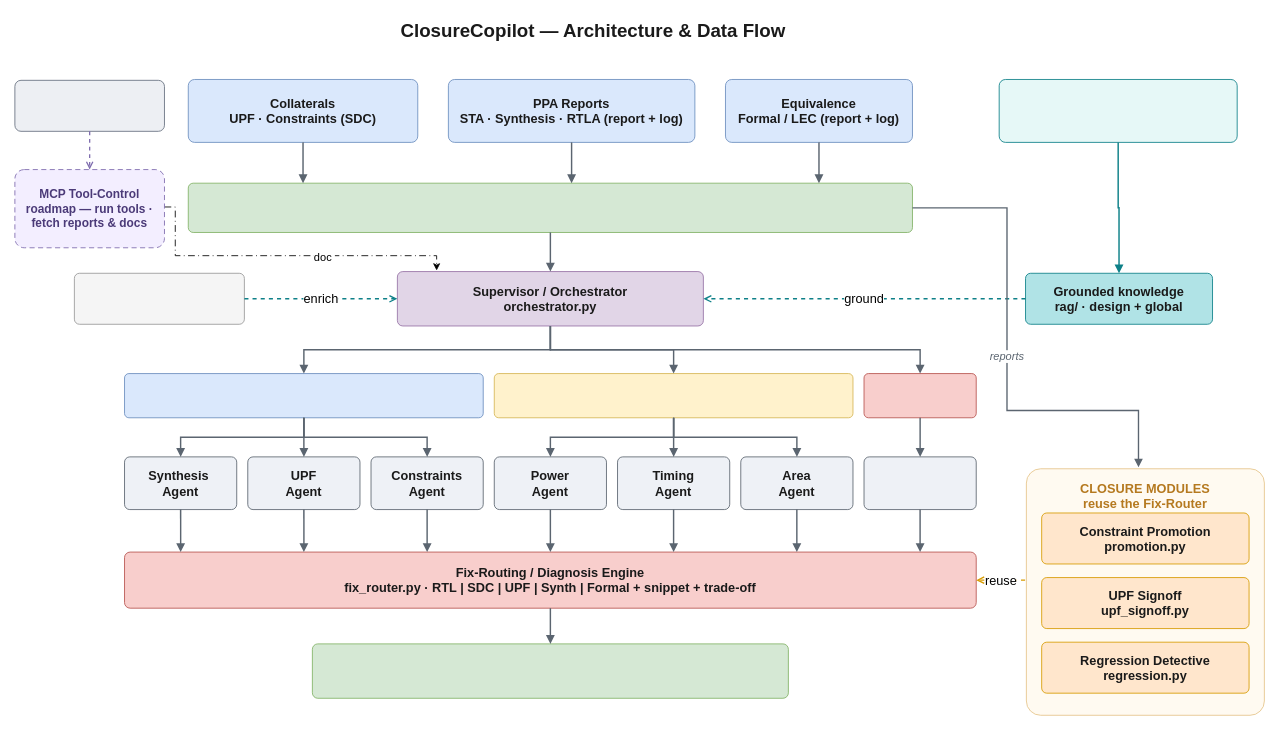
The diagram is 1279 pixels wide and 730 high, and some of its shapes have lost their labels. Each missing label, with the box of its shape:
Azure OpenAI (LLM) explanations & Q&A · optional: (74, 272, 244, 324)
Collaterals Check: (124, 373, 483, 418)
Design Context RTL files · spec .md · micro-arch docs: (998, 79, 1237, 142)
Equivalence Check: (863, 373, 976, 418)
Formal Agent: (863, 456, 976, 510)
Ingestion / Parser Agent ingestion/parsers.py · detect_type() → Finding: (187, 182, 912, 232)
PPA Analysis: (493, 373, 853, 418)
Ranked findings — AnalysisResult Streamlit app · HTML dashboard · CLI: (312, 643, 788, 698)
Vendor EDA Tools Synopsys · Cadence: (14, 79, 164, 131)
